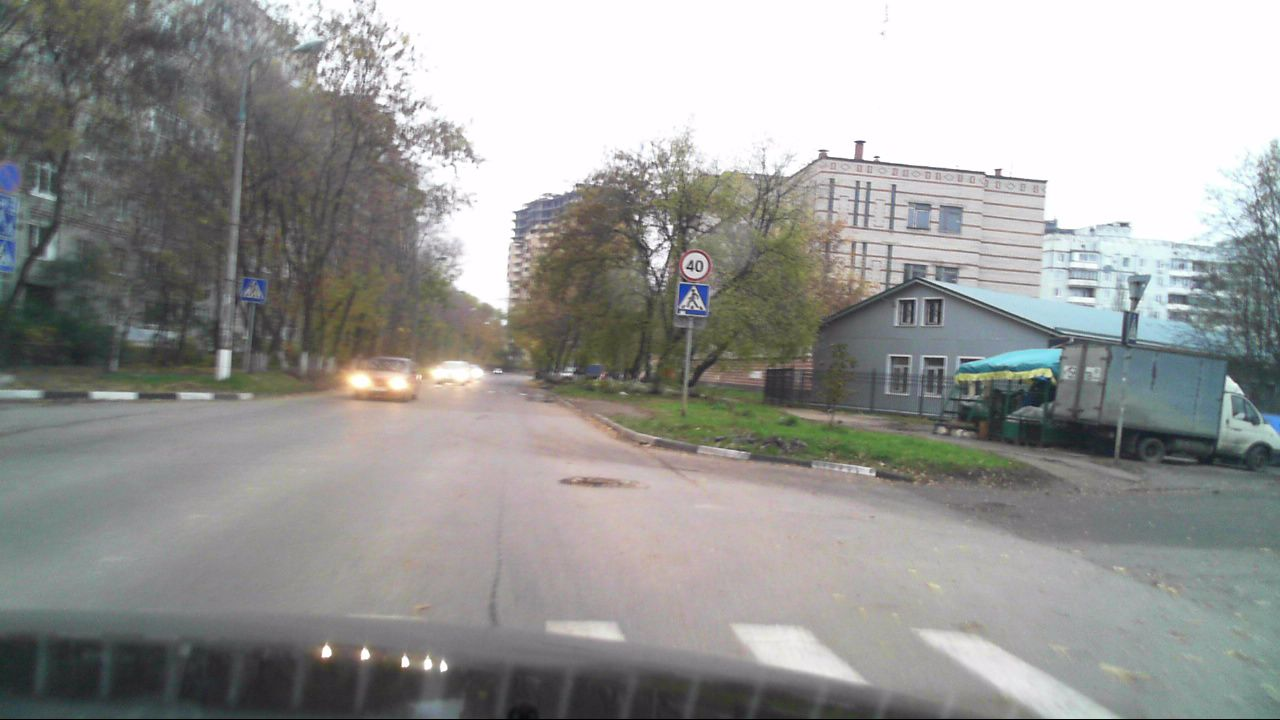speed_warning_40: (681, 250, 708, 278)
